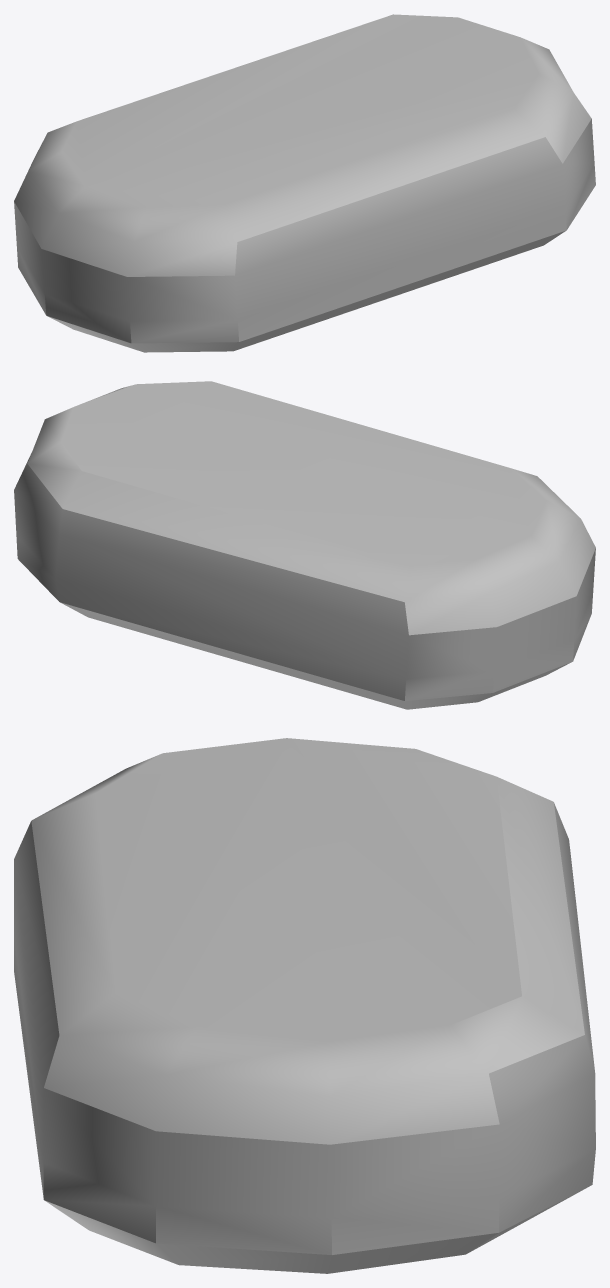
Rendered from wxyz9_button.glb.
3 renders of one model, top to bottom at view 1: azimuth 30°, elevation 25°; view 2: azimuth 150°, elevation 25°; view 3: azimuth 270°, elevation 25°, orthographic. The views are drawn at different scales.
Parts seen in each view (by area): view 1: wxyz9_button; view 2: wxyz9_button; view 3: wxyz9_button.
Boxes of the visible parts, left/top/right/bottom form: wxyz9_button: left=14, top=14, right=595, bottom=352; wxyz9_button: left=14, top=381, right=595, bottom=709; wxyz9_button: left=14, top=738, right=595, bottom=1273.
Bounding box in the file's own units: 0.00276 × 0.000842 × 0.00163.
1 material, 1 textured.
